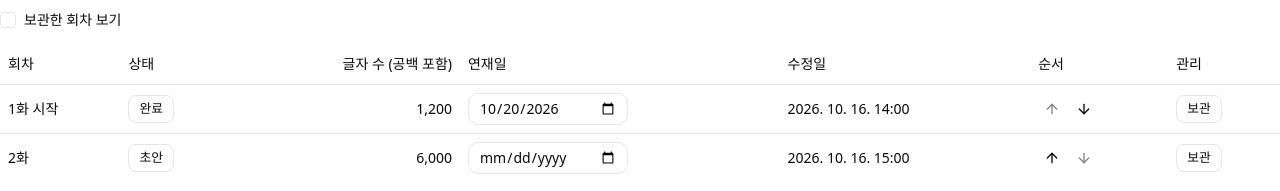
Test: ChapterTable › publish date input › keeps the saved date when the field holds a half-typed date on blur
Clear the date field named "1화 연재일" at (548, 108), box [468,92,628,124]
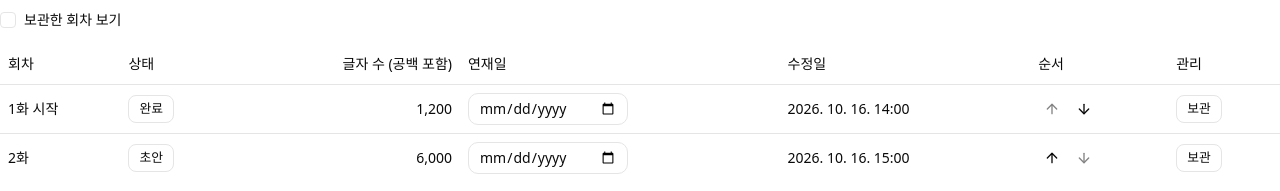
Leave the date field named "1화 연재일", box [468,92,628,124]
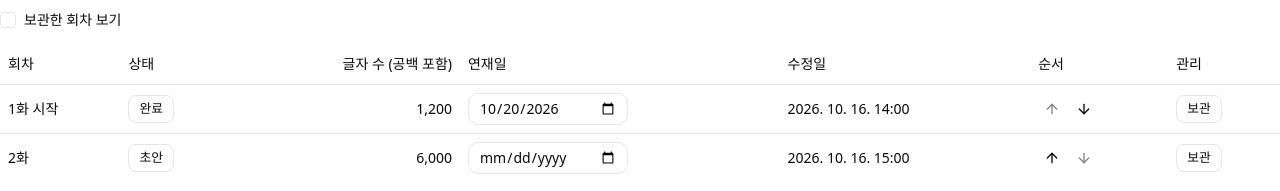
Expected: the date field named "1화 연재일" holds "2026-10-20", [468,92,628,124]
